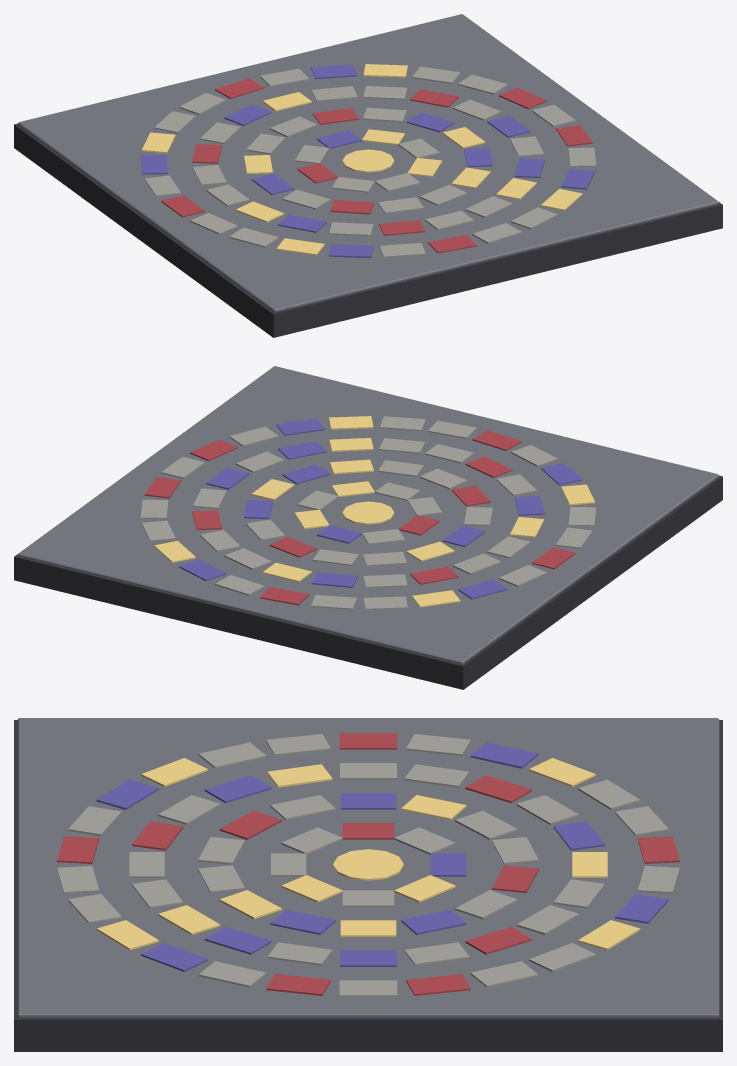
Rendered from floor_cr_mosaic.glb.
The picture shows the model from 3 angles, top to bottom: view 1: azimuth 30°, elevation 25°; view 2: azimuth 150°, elevation 25°; view 3: azimuth 270°, elevation 25°; orthographic projection. The views are drawn at different scales.
Visible parts, largest first — view 1: floor_cr_mosaic; view 2: floor_cr_mosaic; view 3: floor_cr_mosaic.
Part boxes in pixels (x1,y1,x2,y2): floor_cr_mosaic: (14, 14, 722, 337); floor_cr_mosaic: (14, 366, 722, 689); floor_cr_mosaic: (14, 718, 722, 1051).
Bounding box in the file's own units: 4 × 0.236 × 4.
